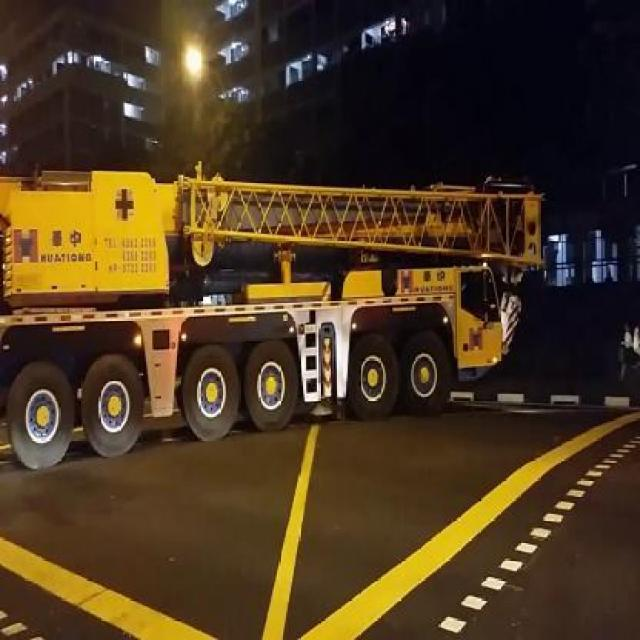Mobile Crane: (0, 163, 545, 460)
